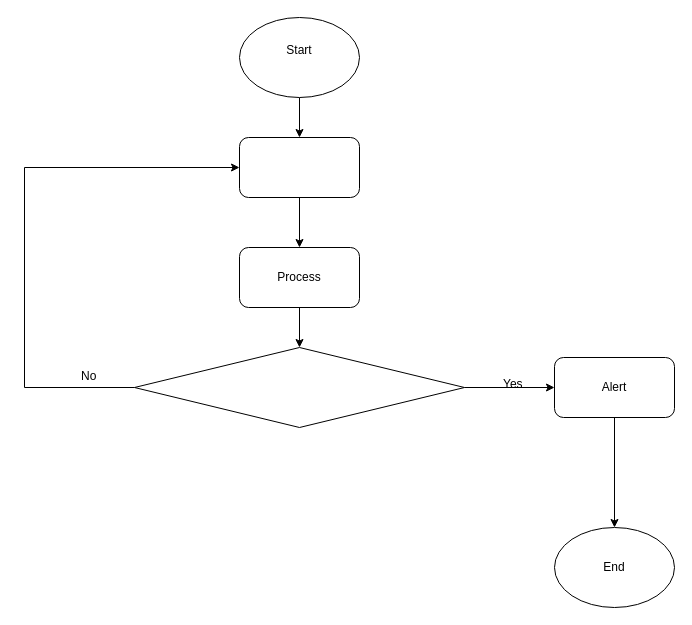
Image size: 692x625. Some labels were removed from this diagram. The centre of each missing label's shape, as x and y in pixels:
"Is the noise level over 60 db?" belongs at [299,387].
"Pick up sound" belongs at [299,167].
